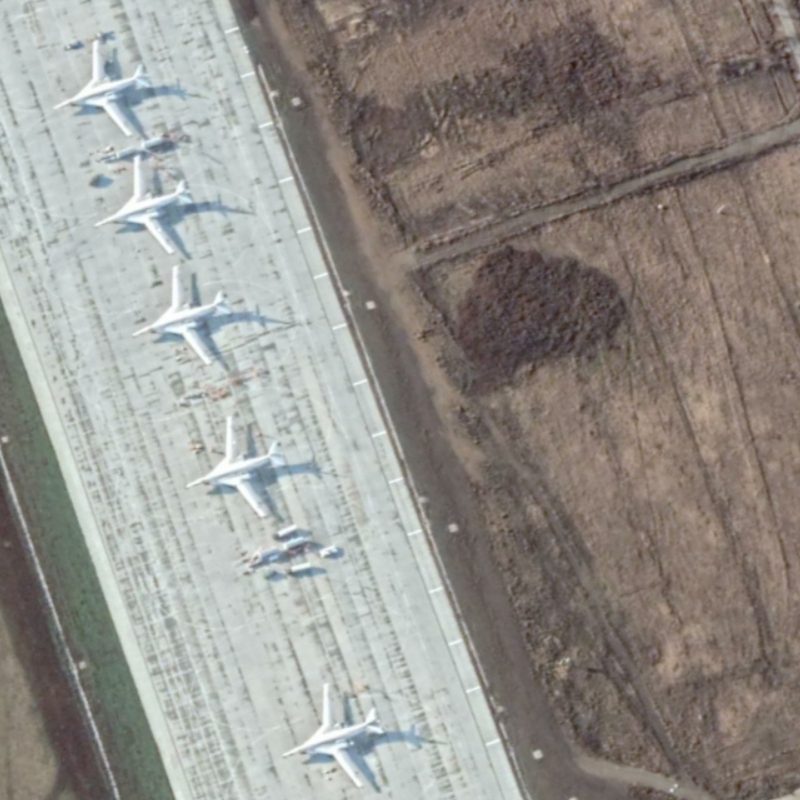A6: (180, 411, 292, 524), (127, 257, 238, 371), (279, 679, 388, 793), (49, 33, 158, 143), (91, 154, 197, 256)
